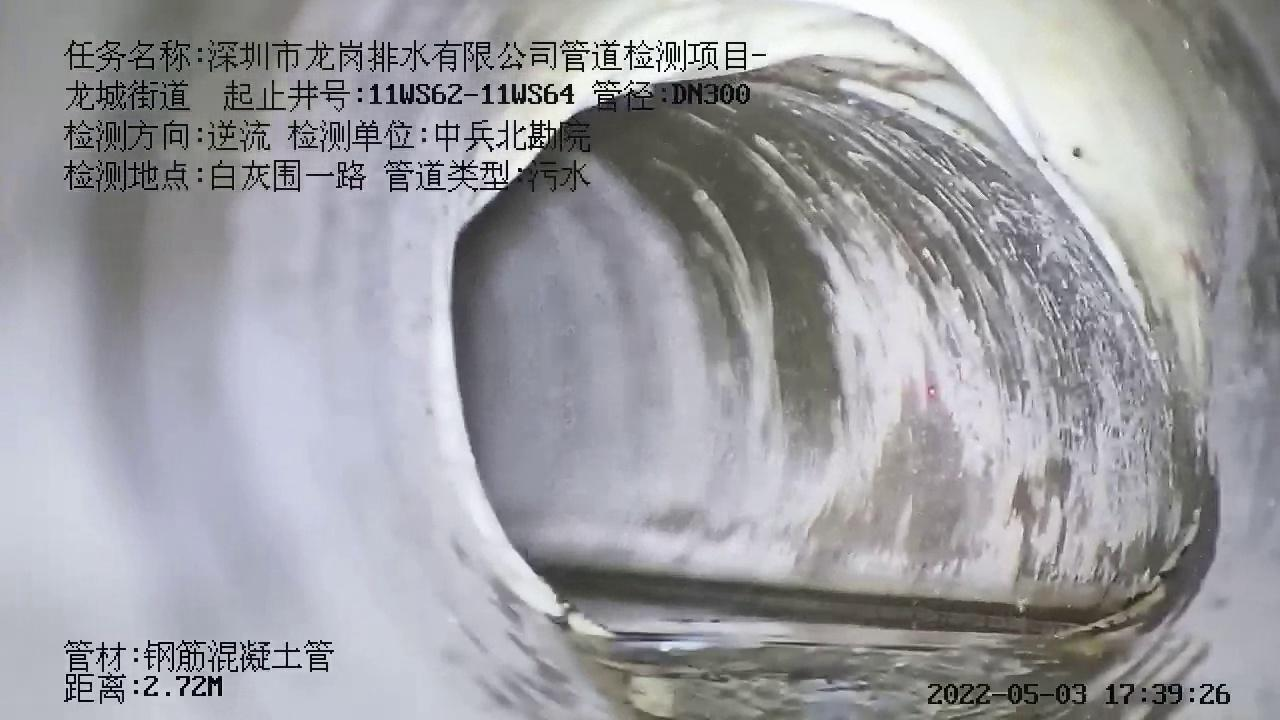BX: (425, 27, 1200, 660)
